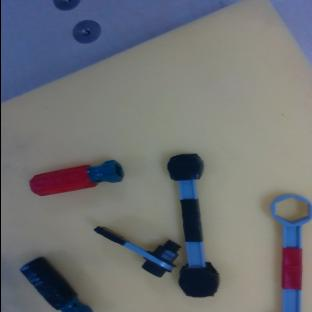part_1_bad: (86, 221, 181, 280)
part_2_bad: (18, 252, 94, 312)
part_2_good: (28, 158, 125, 199)
part_3_bad: (161, 152, 221, 301)
part_3_good: (270, 195, 312, 312)
